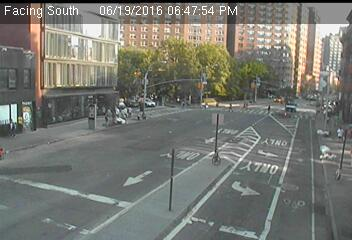neg: (103, 46, 124, 74), (108, 153, 127, 178), (196, 51, 215, 76), (135, 188, 154, 213), (161, 147, 178, 170), (263, 158, 280, 181), (228, 191, 244, 213), (78, 65, 94, 86), (169, 197, 185, 218), (298, 49, 314, 69), (47, 78, 63, 98), (53, 160, 68, 180), (278, 200, 293, 220), (314, 158, 329, 178), (161, 50, 176, 69), (209, 146, 223, 165), (88, 110, 102, 129), (310, 100, 323, 118), (292, 147, 305, 164), (271, 54, 284, 71), (80, 198, 93, 215), (41, 108, 53, 125), (36, 137, 48, 154), (261, 122, 273, 139), (240, 155, 252, 171), (245, 54, 257, 69)
pos: (226, 98, 240, 116)
